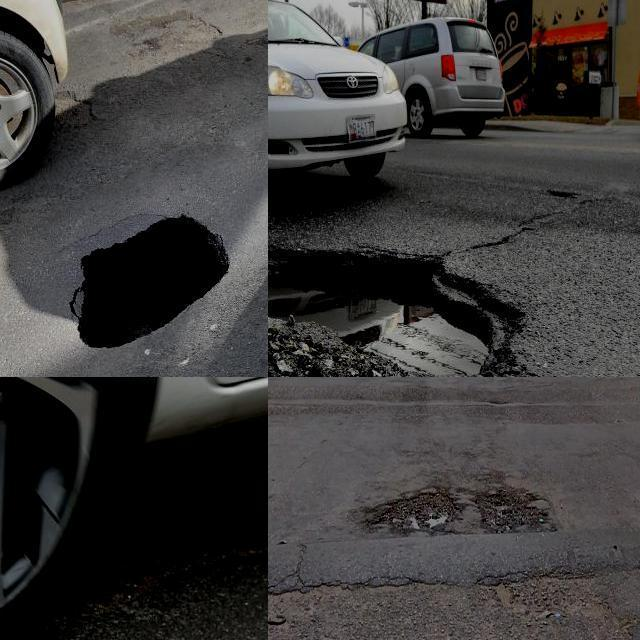Pothole: (268, 250, 524, 377), (78, 216, 231, 348), (372, 487, 457, 535), (473, 483, 555, 530)
